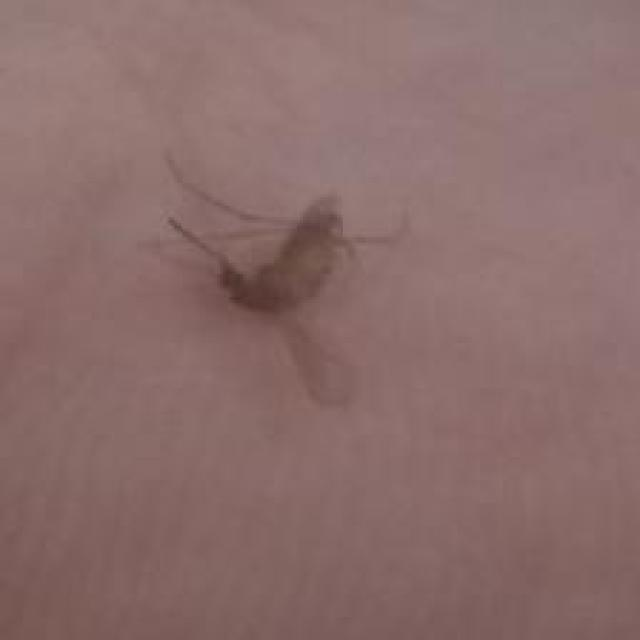Culex: (158, 147, 413, 410)
